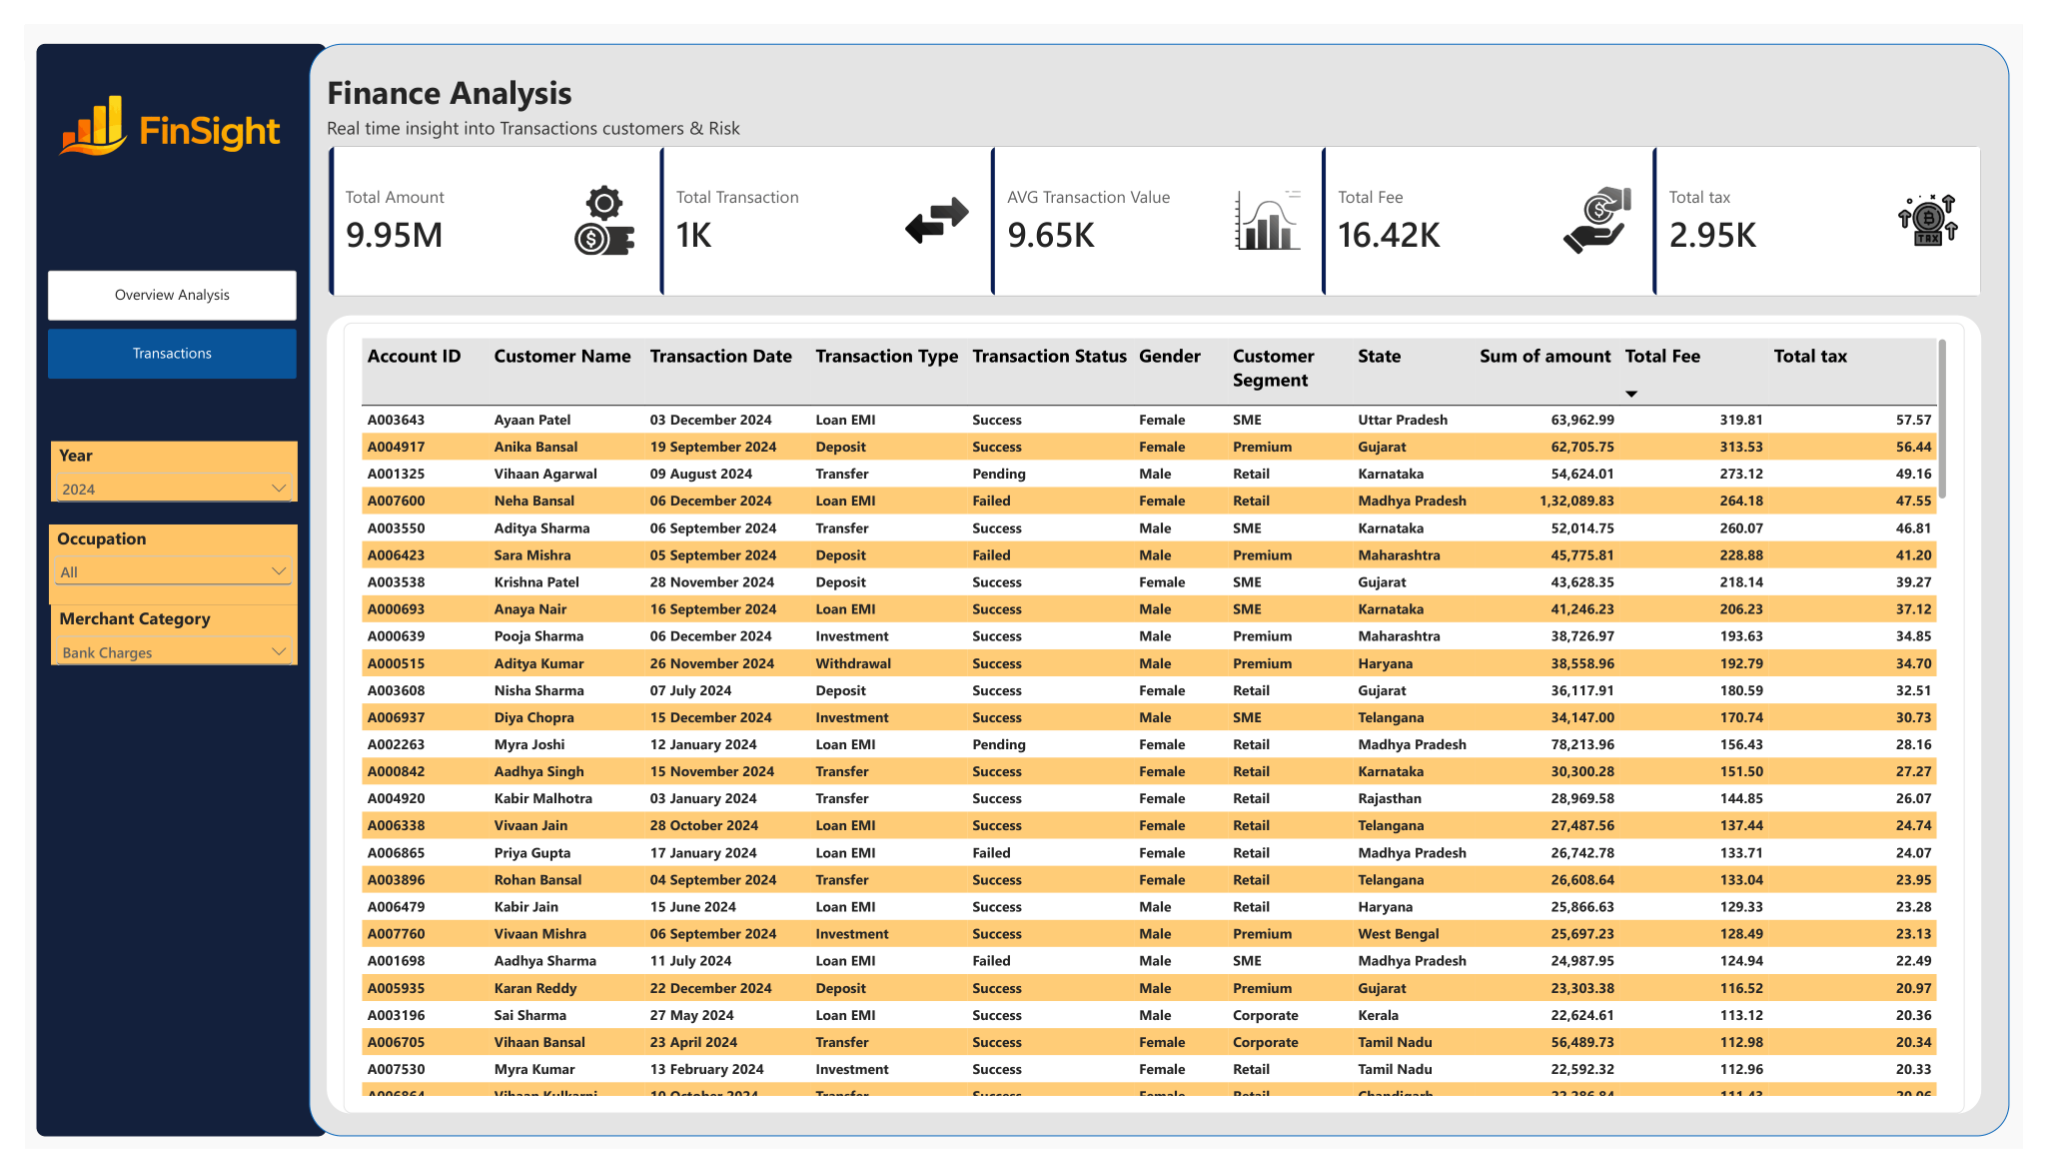

Layout of this report page (visuals, bound fields, positions):
{"tool":"powerbi","page":{"name":"Transactions","canvas":[1920,1080],"ordinal":1},"visuals":[{"type":"shape","box":[10.9,18.1,278.7,1049.6],"z":0},{"type":"shape","box":[273.3,18.1,1634.1,1049.6],"z":1000},{"type":"image","box":[22.3,54,238.2,87.5],"z":2000},{"type":"cardVisual","fields":{"Data":["finance_transactions.Dashboard Title"]},"box":[290.3,18.6,445.2,115.8],"z":3000},{"type":"cardVisual","fields":{"Data":["finance_transactions.Total Amount","finance_transactions.Total Transaction","finance_transactions.AVG Transaction Value","finance_transactions.Total Fee","finance_transactions.Total tax"]},"box":[290.3,115.4,1591,147],"z":4000},{"type":"slicer","fields":{"Values":["Calender Table.Year"]},"box":[24.6,399.9,237.1,57.9],"z":5000},{"type":"slicer","fields":{"Values":["customers.occupation"]},"box":[22.8,479.6,238.9,77.8],"z":11000},{"type":"slicer","fields":{"Values":["finance_transactions.merchant_category"]},"box":[24.6,557.4,237.1,57.9],"z":12000},{"type":"shape","box":[289.5,278.7,1590.7,767.3],"z":14001},{"type":"tableEx","fields":{"Values":["finance_transactions.account_id","customers.Customer_name","finance_transactions.transaction_date","finance_transactions.transaction_type","finance_transactions.transaction_status","customers.gender","customers.customer_segment","customers.state","Sum(finance_transactions.amount)","finance_transactions.Total Fee","finance_transactions.Total tax"]},"box":[305.8,285.9,1558.1,760.1],"z":14002},{"type":"pageNavigator","box":[22.3,236.3,238.2,104.2],"z":14004}]}

Visuals, with their boxes in screenshot pixels (x1, y1, x2, y2), scaled from the page's 1920x1080 canvas onto the 2048x1173 screenshot:
shape: 12,20,309,1160
shape: 292,20,2035,1160
image: 24,59,278,154
cardVisual - finance_transactions.Dashboard Title: 310,20,785,146
cardVisual - finance_transactions.Total Amount x finance_transactions.Total Transaction: 310,125,2007,285
slicer - Calender Table.Year: 26,434,279,497
slicer - customers.occupation: 24,521,279,605
slicer - finance_transactions.merchant_category: 26,605,279,668
shape: 309,303,2006,1136
tableEx - finance_transactions.account_id x customers.Customer_name: 326,311,1988,1136
pageNavigator: 24,257,278,370
